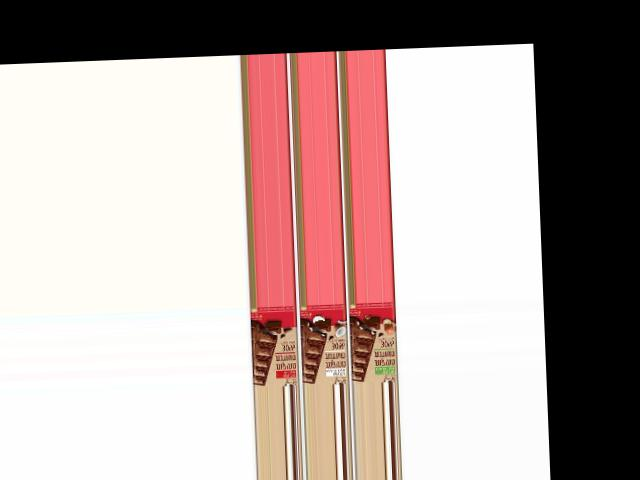chocolate: (350, 300, 400, 382)
